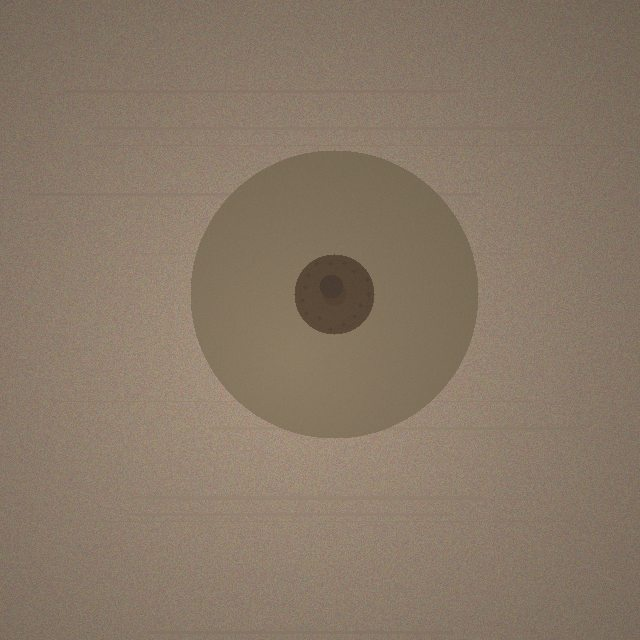cold_weld: (190, 150, 478, 438)
